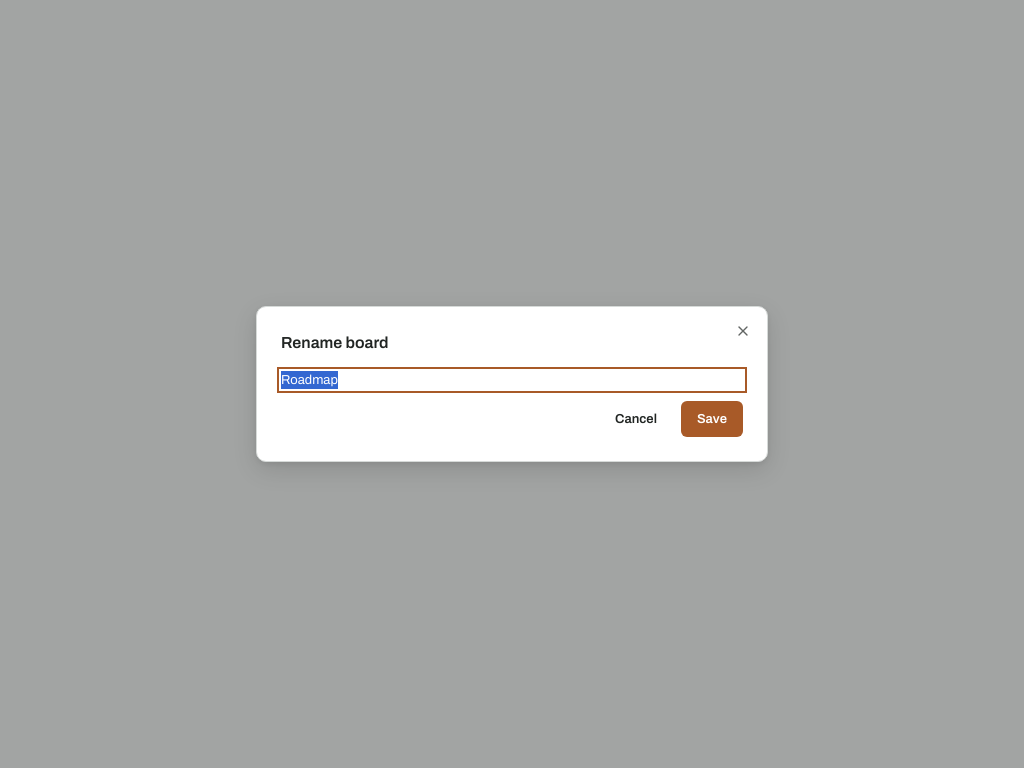
Test: FormDialog › announces the failure to assistive tech and moves focus to it
Click the button "Save". click: (712, 419)
box: [681,401,743,437]
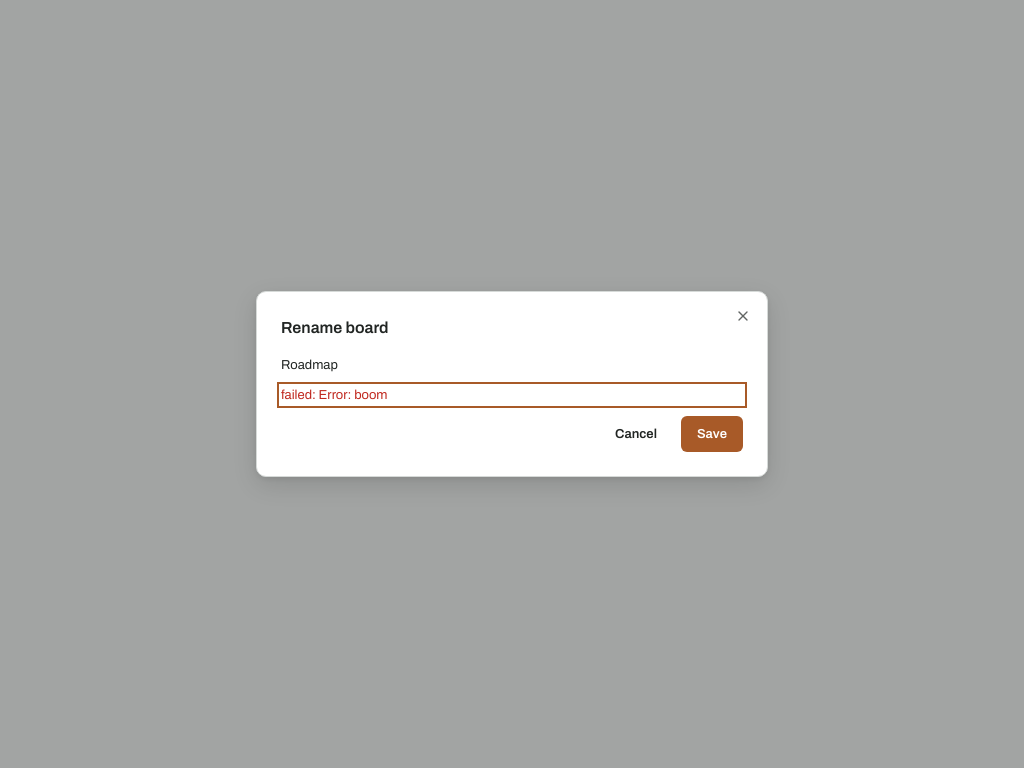
Check: the message reads "failed: Error: boom", box [281,388,388,402]
